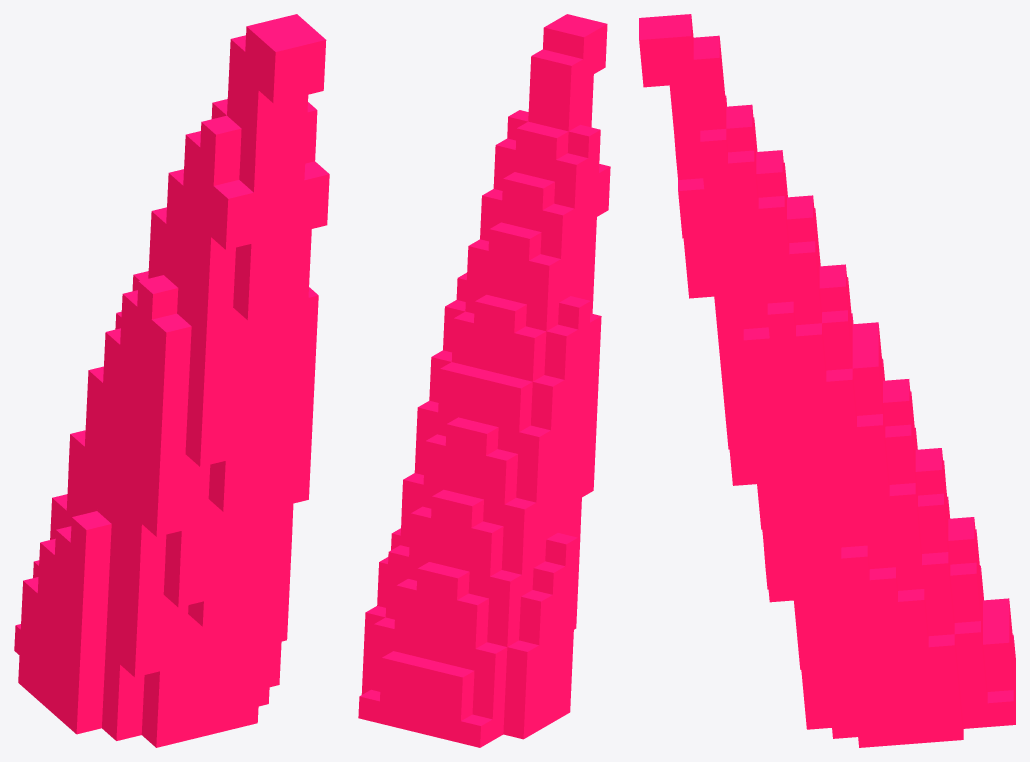
File: orange-red.gltf
3 renders of one model, left to right at view 1: azimuth 30°, elevation 25°; view 2: azimuth 150°, elevation 25°; view 3: azimuth 270°, elevation 25°, orthographic. The views are drawn at different scales.
Visible parts, largest first — view 1: 角.1; view 2: 角.1; view 3: 角.1.
Boxes of the visible parts, x1,y1,x2,y2 form: 角.1: (14, 14, 329, 747); 角.1: (358, 14, 610, 747); 角.1: (639, 14, 1015, 747).
Bounding box in the file's own units: 0.9601 × 3.45 × 1.72.
